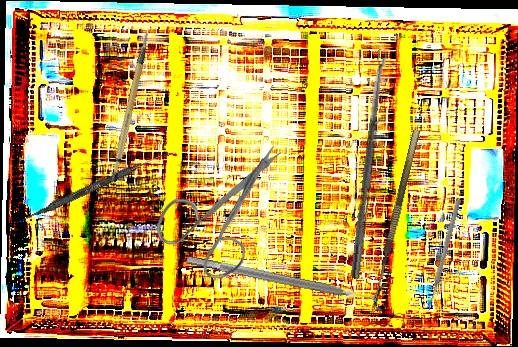Fixation Ring: (183, 243, 391, 315)
Hook Surgical: (369, 129, 430, 312)
Iris Scissors: (154, 139, 284, 281)
Pusher: (425, 199, 462, 312)
Scalpel Handle: (91, 30, 173, 184)
Spatula Surgical: (14, 146, 172, 229)
Surgical Spoon: (350, 48, 389, 280)
